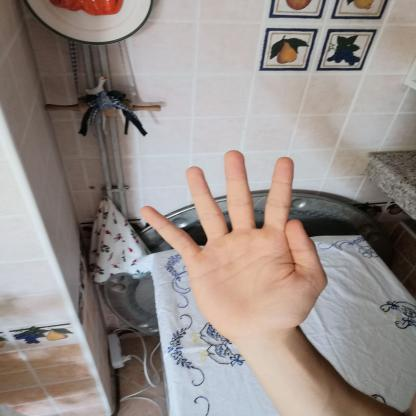SHEEN: (126, 142, 331, 344)
